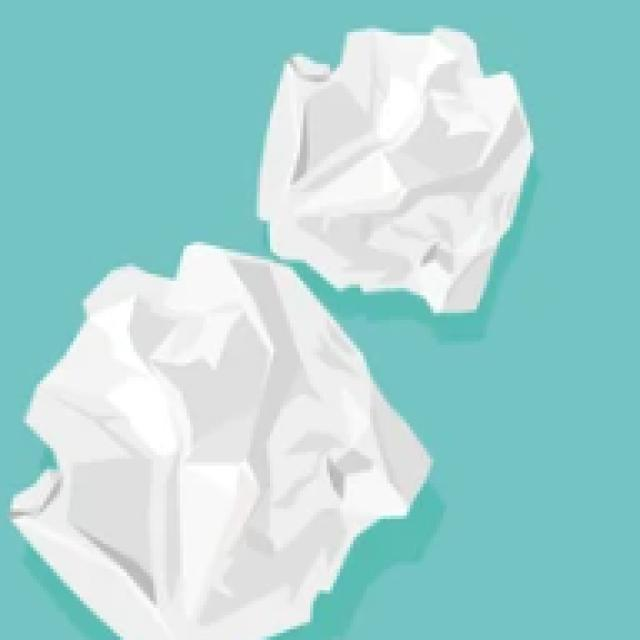KertasBekas: (7, 238, 433, 636), (254, 21, 534, 313)
